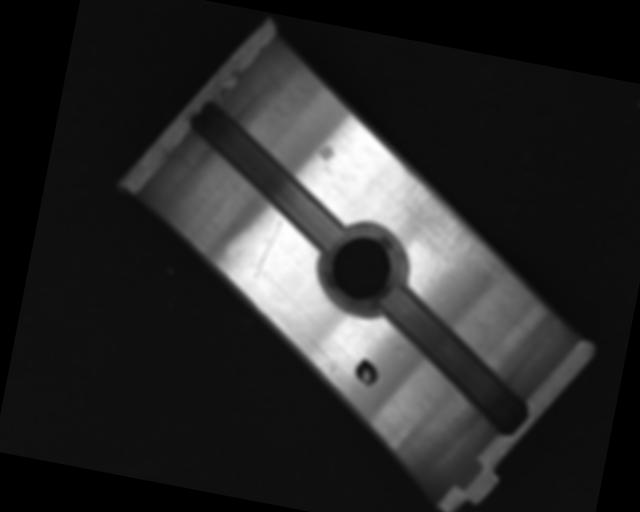blot: (351, 355, 382, 389)
bruise: (314, 142, 337, 164)
gap: (170, 98, 362, 255), (358, 283, 546, 437)
hole: (309, 215, 416, 323)
nick: (251, 216, 282, 283)
scratch: (380, 162, 536, 290)
